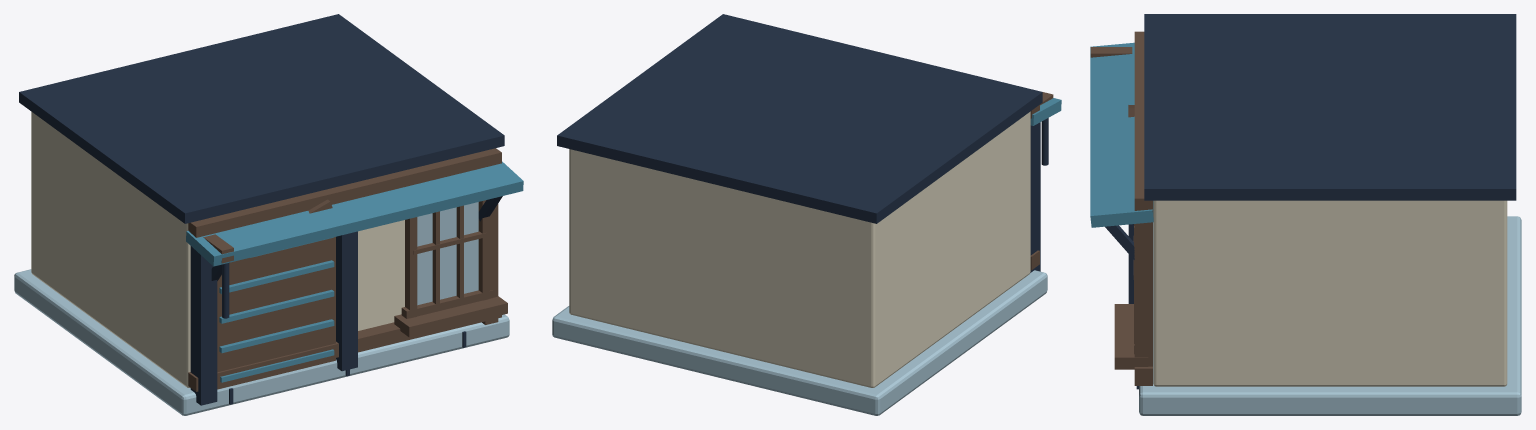
Rendered from base_workshop_banks_1.glb.
3 views of the same model, side by side, from view 1: azimuth 30°, elevation 25°; view 2: azimuth 150°, elevation 25°; view 3: azimuth 270°, elevation 25° (orthographic). The views are drawn at different scales.
Visible parts, largest first — view 1: base_workshop_banks_1 ink, base_workshop_banks_1 plaster, base_workshop_banks_1 wood, base_workshop_banks_1 river, base_workshop_banks_1 mist, base_workshop_banks_1 glass; view 2: base_workshop_banks_1 plaster, base_workshop_banks_1 ink, base_workshop_banks_1 mist, base_workshop_banks_1 river; view 3: base_workshop_banks_1 ink, base_workshop_banks_1 plaster, base_workshop_banks_1 mist, base_workshop_banks_1 river, base_workshop_banks_1 wood.
Part boxes in pixels (x1=…): base_workshop_banks_1 ink: x1=19, y1=14, x2=504, y2=405; base_workshop_banks_1 plaster: x1=31, y1=111, x2=404, y2=387; base_workshop_banks_1 wood: x1=188, y1=148, x2=507, y2=391; base_workshop_banks_1 river: x1=186, y1=161, x2=523, y2=382; base_workshop_banks_1 mist: x1=14, y1=269, x2=509, y2=415; base_workshop_banks_1 glass: x1=417, y1=202, x2=478, y2=305; base_workshop_banks_1 plaster: x1=569, y1=111, x2=1030, y2=387; base_workshop_banks_1 ink: x1=557, y1=14, x2=1048, y2=272; base_workshop_banks_1 mist: x1=552, y1=270, x2=1047, y2=415; base_workshop_banks_1 river: x1=1030, y1=98, x2=1061, y2=125; base_workshop_banks_1 ink: x1=1105, y1=14, x2=1516, y2=389; base_workshop_banks_1 plaster: x1=1153, y1=200, x2=1507, y2=386; base_workshop_banks_1 mist: x1=1139, y1=216, x2=1521, y2=415; base_workshop_banks_1 river: x1=1090, y1=42, x2=1153, y2=227; base_workshop_banks_1 wood: x1=1090, y1=31, x2=1152, y2=385.
Size of the model in its own units: 0.815 by 0.48 by 0.8284.
